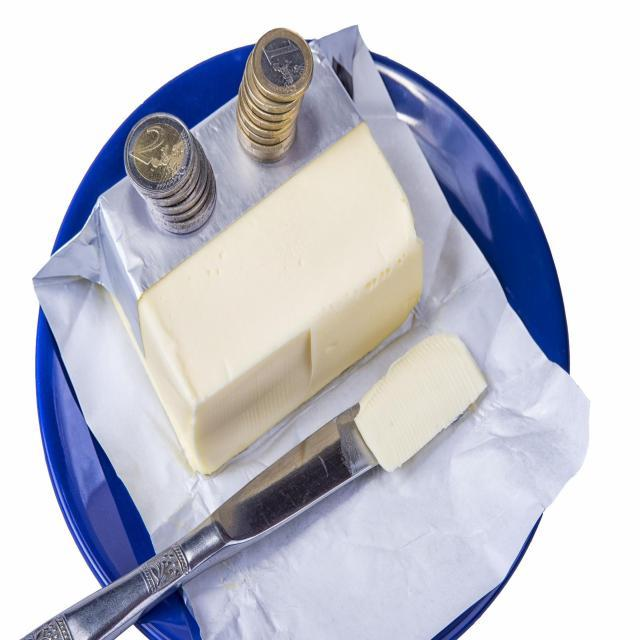Butter: (137, 118, 424, 476), (351, 328, 488, 474)
